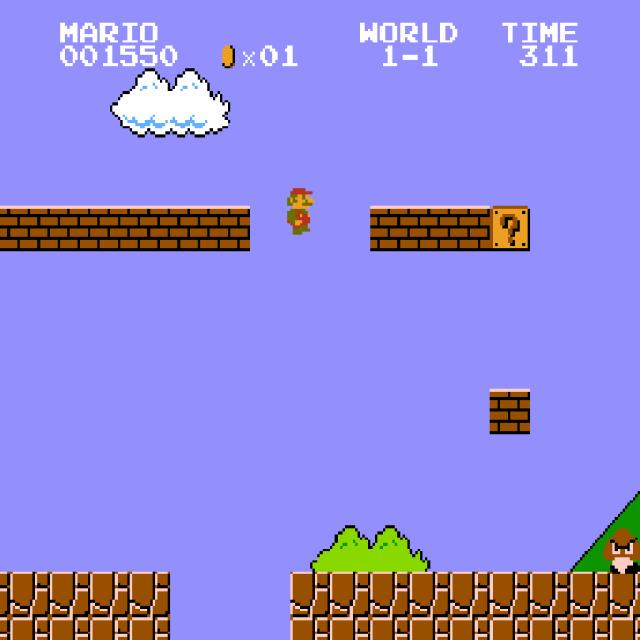brick_block: (10, 206, 50, 251), (50, 206, 90, 251), (90, 206, 130, 251), (130, 206, 170, 251), (170, 206, 210, 251), (210, 206, 250, 251), (370, 206, 410, 251), (410, 206, 450, 251), (450, 206, 490, 251), (490, 389, 530, 434), (0, 205, 10, 251)
goomba: (599, 525, 640, 574)
little_mario: (277, 186, 320, 234)
mystery_block: (490, 206, 530, 251)
undestructible_block: (10, 572, 50, 617), (50, 572, 90, 617), (90, 572, 130, 617), (130, 572, 170, 617), (290, 572, 330, 617), (330, 572, 370, 617), (370, 572, 410, 617), (410, 572, 450, 617), (450, 572, 490, 617), (490, 572, 530, 617), (530, 572, 570, 617), (570, 572, 610, 617), (610, 572, 640, 617), (10, 617, 50, 640), (50, 617, 90, 640), (90, 617, 130, 640), (130, 617, 170, 640), (290, 617, 330, 640), (330, 617, 370, 640), (370, 617, 410, 640), (410, 617, 450, 640), (450, 617, 490, 640), (490, 617, 530, 640), (530, 617, 570, 640), (570, 617, 610, 640), (610, 617, 640, 640), (0, 571, 10, 617), (0, 617, 10, 639)
